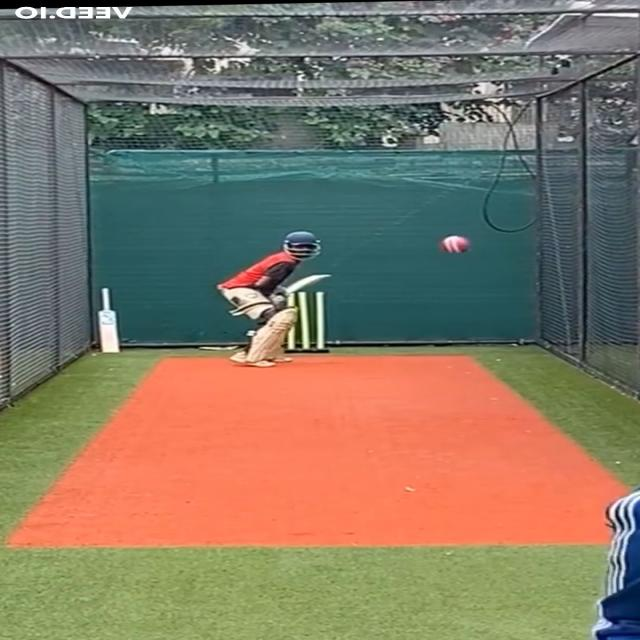ball: (438, 233, 475, 256)
stump: (279, 290, 331, 356)
